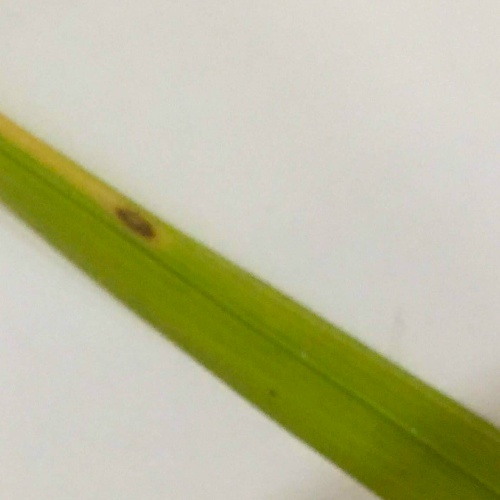Busuk Leher: (112, 196, 163, 251)
